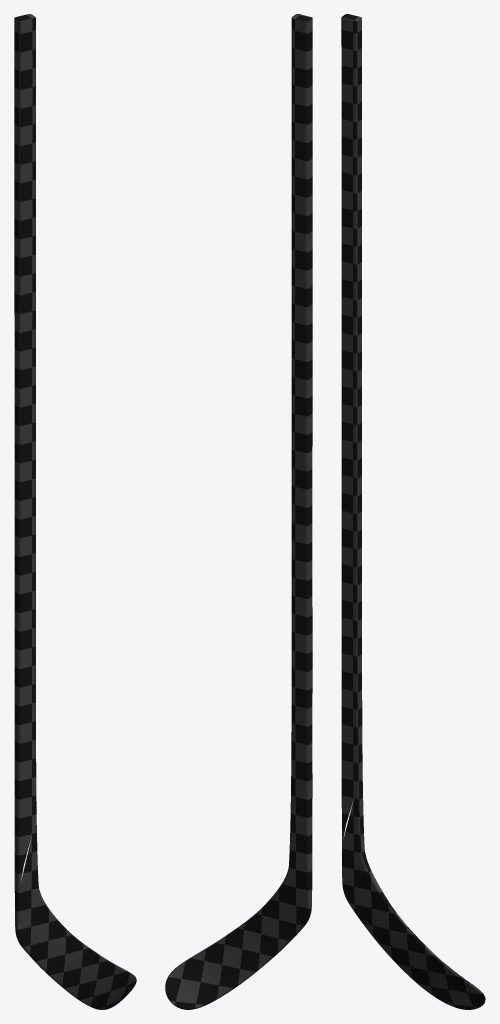
Rendered from P25-1-4-ST-LIE4_5.glb.
3 views of the same model, side by side, from view 1: azimuth 30°, elevation 25°; view 2: azimuth 150°, elevation 25°; view 3: azimuth 330°, elevation 25° (orthographic). The views are drawn at different scales.
Visible parts, largest first — view 1: geometry_0; view 2: geometry_0; view 3: geometry_0.
Boxes of the visible parts, <box> form: geometry_0: <box>14,14,136,1009</box>; geometry_0: <box>165,14,312,1009</box>; geometry_0: <box>341,14,485,1009</box>.
Bounding box in the file's own units: 225 × 1650 × 64.7.
1 material, 1 textured.
